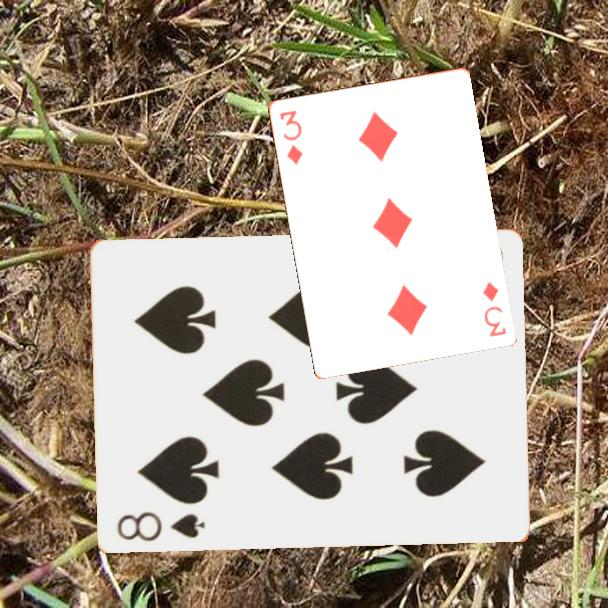d03: (479, 278, 509, 339), (276, 107, 305, 167)
s08: (113, 509, 208, 545)
